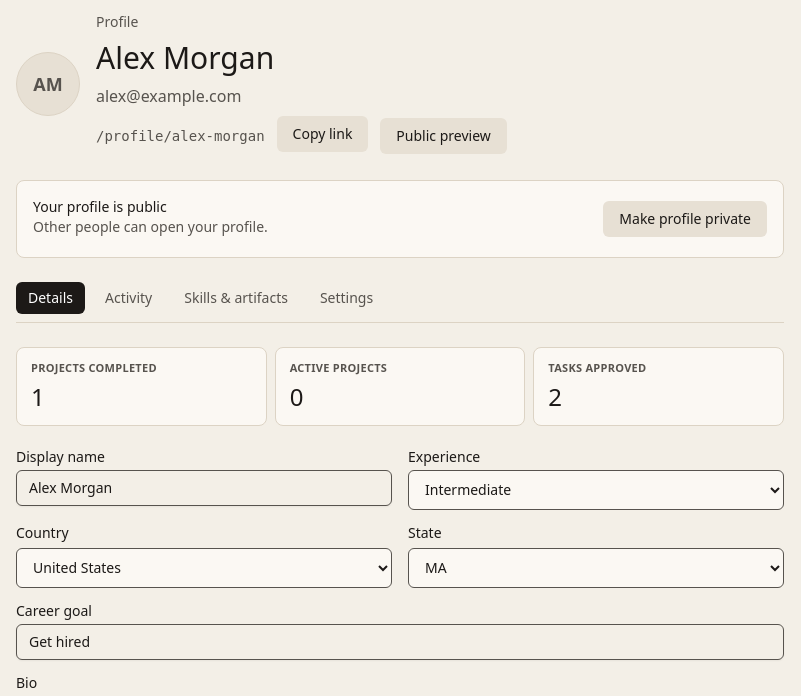
Test: PublicProfilePage › shows public or private status and announces the change
Expected: the text "Your profile is public" is shown, [33,197,167,216]
What coordinates should you click on to do the following:
click the tab "Activity"
I would click on:
 (129, 298)
Its box is [93,282,164,314].
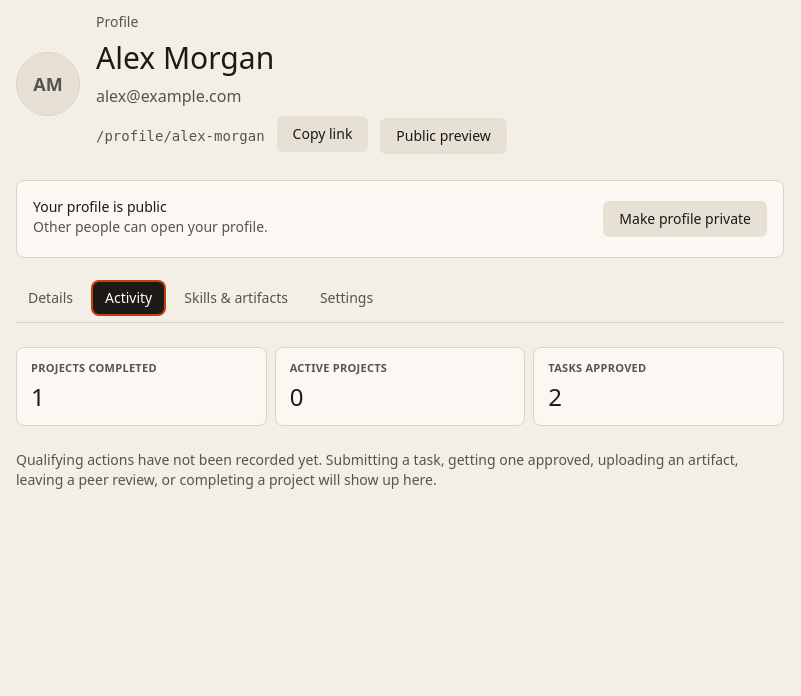
Now the text "Qualifying actions have not been recorded yet" is shown, box [16,450,739,488]
What coordinates should you click on to do the following:
click the button "Make profile private"
I would click on:
 (685, 219)
Its box is [603,201,767,237].
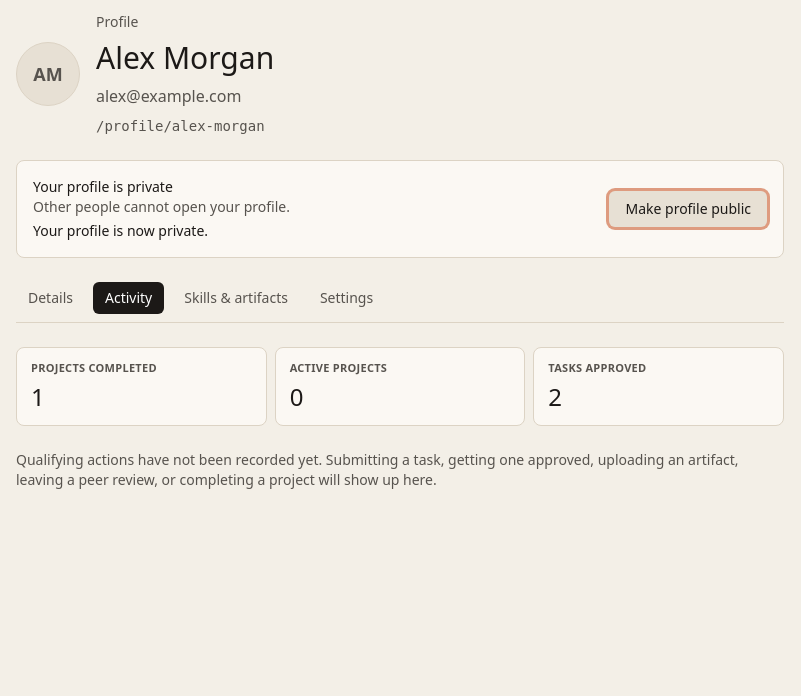
Now the text "Your profile is now private." is shown, box [33,221,208,240]
Now the text "Your profile is private" is shown, box [33,177,173,196]
Now the button "Make profile public" is shown, box [610,191,767,227]
